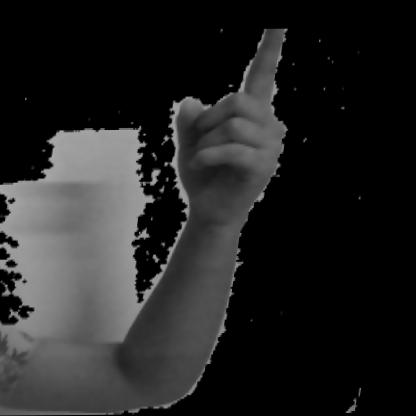one: (83, 29, 325, 358)
